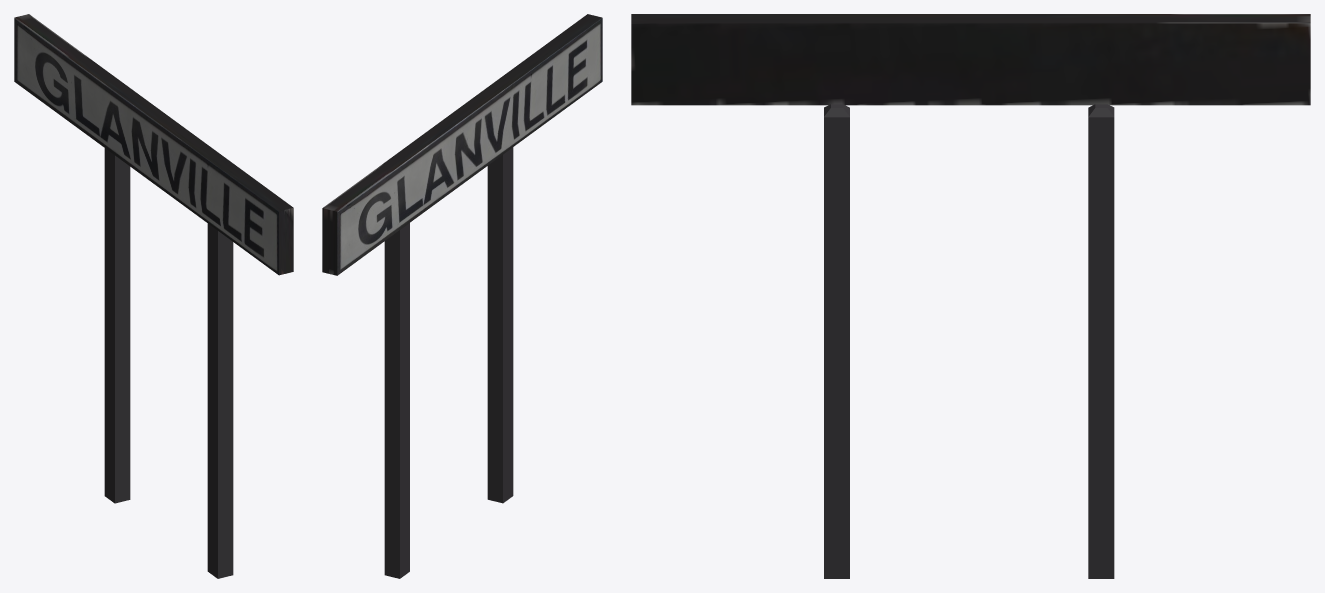
The model's file is Glanville Sign.fbx.
The picture shows the model from 3 angles, left to right: view 1: azimuth 30°, elevation 25°; view 2: azimuth 150°, elevation 25°; view 3: azimuth 270°, elevation 25°; orthographic projection. The views are drawn at different scales.
Parts seen in each view (by area): view 1: GlanvilleSignBake, right wood pillar.003, left wood pillar.003; view 2: GlanvilleSignBake, left wood pillar.003, right wood pillar.003; view 3: GlanvilleSignBake, right wood pillar.003, left wood pillar.003.
Part boxes in pixels (left/top/right/bottom): GlanvilleSignBake: left=14, top=14, right=293, bottom=275; right wood pillar.003: left=104, top=148, right=130, bottom=503; left wood pillar.003: left=207, top=223, right=233, bottom=578; GlanvilleSignBake: left=322, top=14, right=602, bottom=275; left wood pillar.003: left=487, top=147, right=513, bottom=503; right wood pillar.003: left=384, top=223, right=409, bottom=578; GlanvilleSignBake: left=631, top=14, right=1310, bottom=105; right wood pillar.003: left=1088, top=104, right=1114, bottom=578; left wood pillar.003: left=824, top=104, right=849, bottom=578.
Bounding box in the file's own units: 0.9573 × 14.99 × 13.31.
2 materials, 1 textured.
